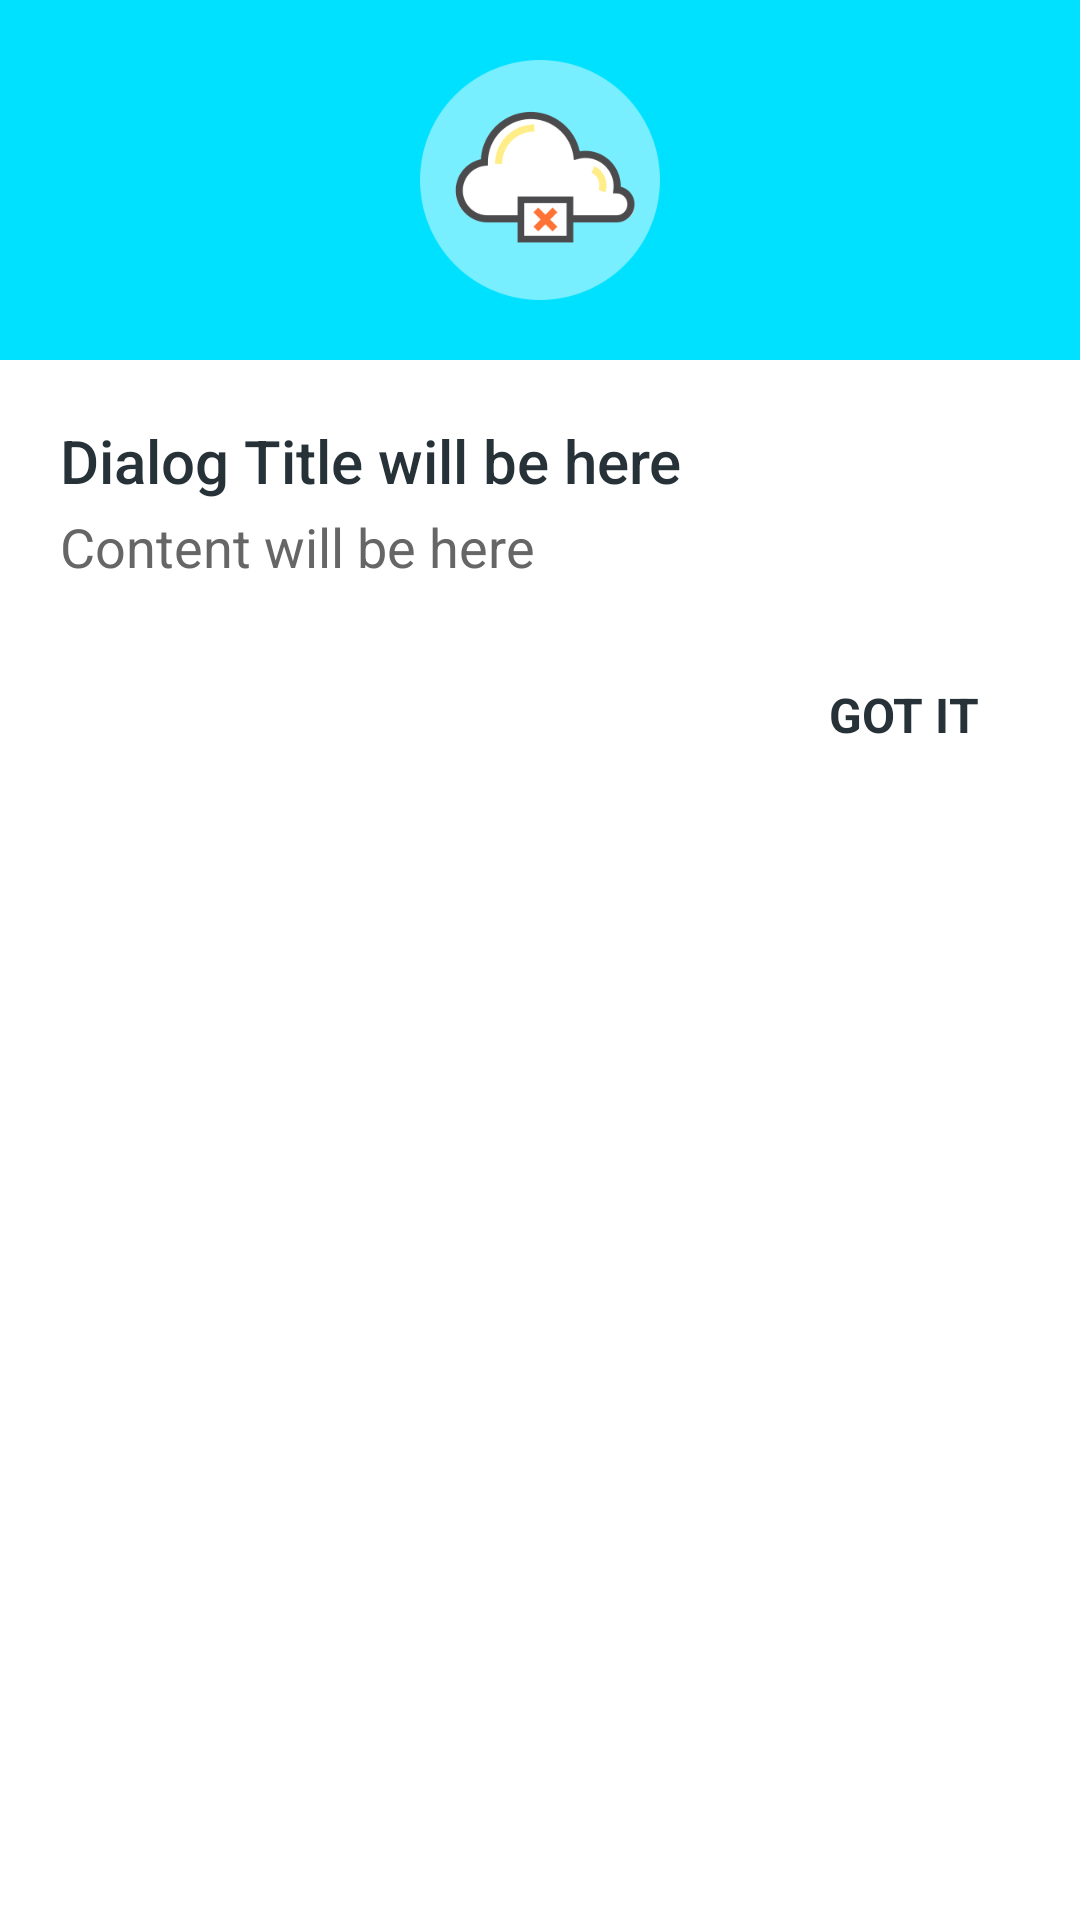

Icon bounding boxes for this 1080×1920 phone screenshot, format [x1,y1,x2,y2]:
no internet: [420,60,660,300]
